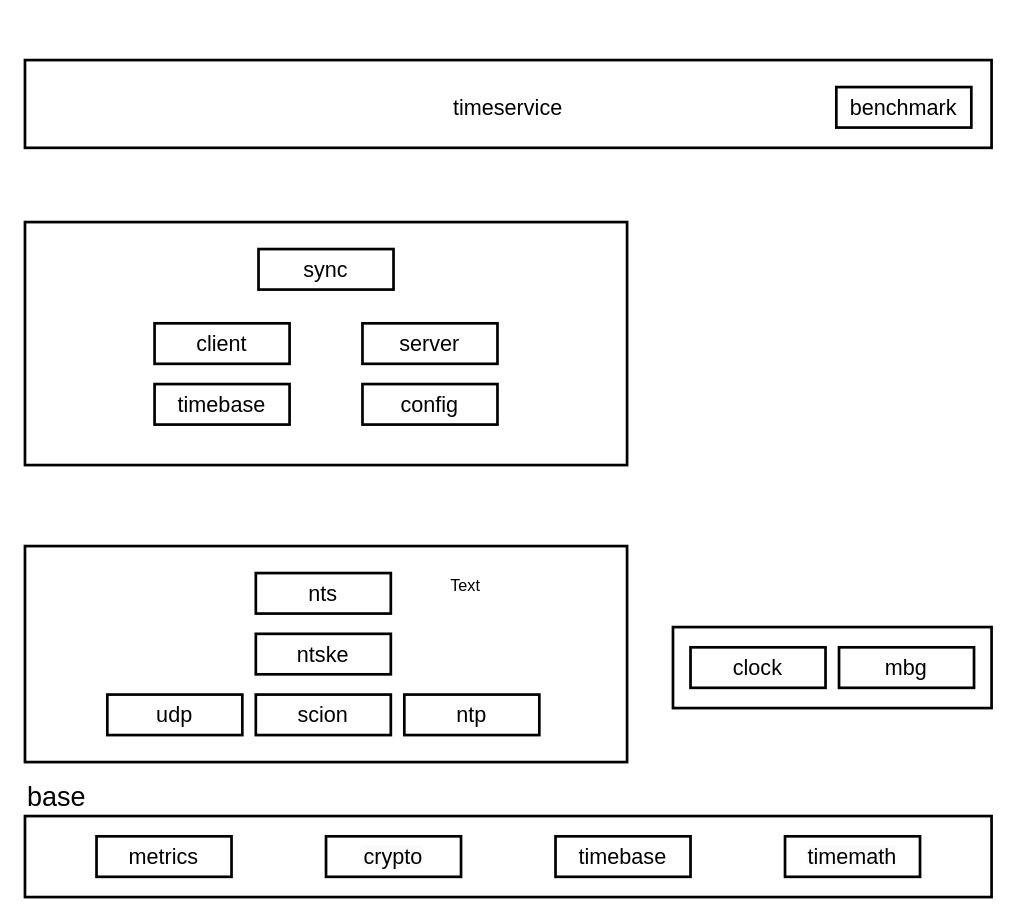
Image size: 1015x921. Some labels were removed from this diagram. The box of each missing label's shape, as (x1, y1, x2, y2) in pixels:
core: (23, 220, 628, 466)
driver: (671, 625, 992, 709)
main: (23, 58, 992, 148)
net: (23, 544, 628, 763)
